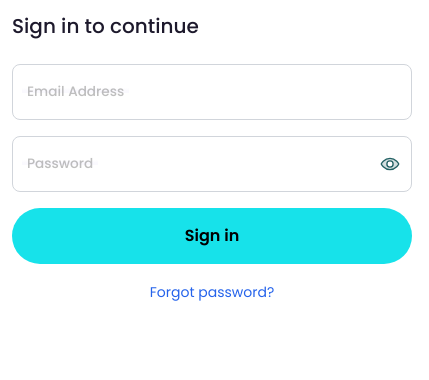
Test: GuestSignIn › form submission › handles invalid credentials error
The image size is (429, 380).
Type "test@example.com" into the field.
click(212, 92); type("test@example.com")  # box x1=12 y1=64 x2=412 y2=120
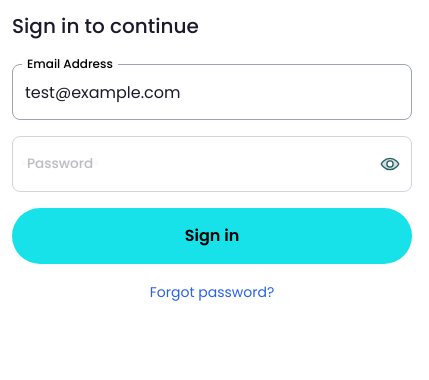
Type "wrongpassword" into the password field.
click(212, 164); type("wrongpassword")  # box x1=12 y1=136 x2=412 y2=192
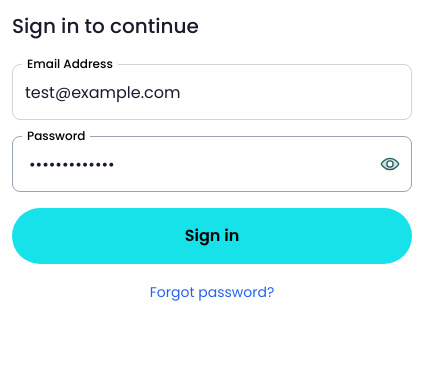
Click the button "Sign in".
click(212, 236)  # box x1=12 y1=208 x2=412 y2=264
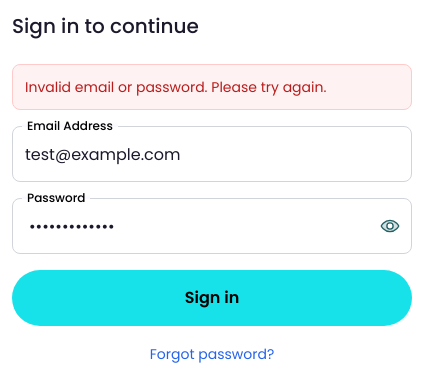
Expected: the text "Invalid email or password. Please try again." is shown, x1=25 y1=77 x2=326 y2=97
